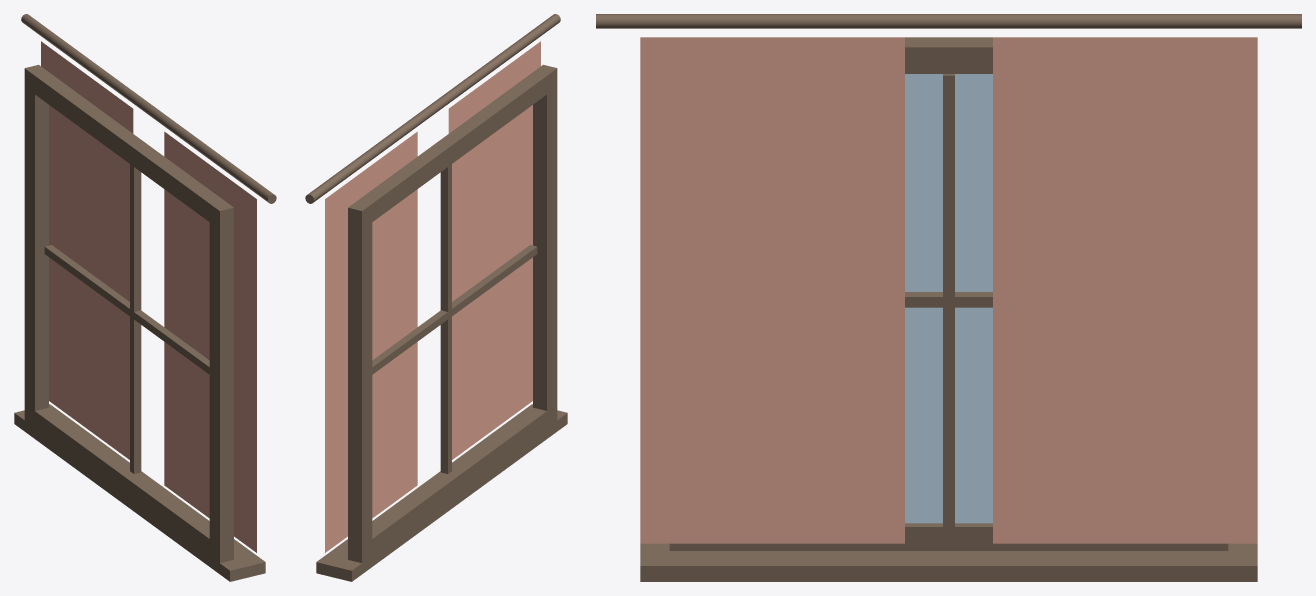
File: window_curtain.glb
The picture shows the model from 3 angles, left to right: view 1: azimuth 30°, elevation 25°; view 2: azimuth 150°, elevation 25°; view 3: azimuth 270°, elevation 25°; orthographic projection. The views are drawn at different scales.
Parts seen in each view (by area): view 1: curtain_a, curtain_b, frame_right, frame_left, frame_top, frame_bottom, sill, muntin_v, curtain_rod, muntin_h; view 2: curtain_b, curtain_a, frame_left, frame_right, frame_top, frame_bottom, sill, muntin_v, curtain_rod, muntin_h; view 3: curtain_a, curtain_b, glass_face, sill, curtain_rod, frame_bottom, muntin_v, frame_top, muntin_h.
Part boxes in pixels (x1,y1,x2,y2): curtain_a: [41, 41, 133, 459]; curtain_b: [164, 131, 256, 552]; frame_right: [209, 222, 233, 546]; frame_left: [24, 87, 48, 410]; frame_top: [24, 64, 233, 229]; frame_bottom: [24, 404, 233, 564]; sill: [14, 404, 265, 581]; muntin_v: [130, 164, 141, 473]; curtain_rod: [21, 14, 276, 203]; muntin_h: [44, 245, 209, 374]; curtain_b: [448, 41, 540, 459]; curtain_a: [325, 131, 417, 552]; frame_left: [348, 222, 372, 546]; frame_right: [533, 87, 557, 410]; frame_top: [348, 64, 557, 229]; frame_bottom: [348, 404, 557, 564]; sill: [316, 404, 567, 581]; muntin_v: [440, 164, 451, 473]; curtain_rod: [305, 14, 560, 203]; muntin_h: [372, 245, 537, 374]; curtain_a: [993, 37, 1257, 543]; curtain_b: [640, 37, 904, 543]; glass_face: [905, 74, 992, 523]; sill: [640, 543, 1257, 581]; curtain_rod: [596, 14, 1301, 28]; frame_bottom: [669, 523, 1228, 550]; muntin_v: [943, 74, 954, 528]; frame_top: [905, 37, 992, 73]; muntin_h: [905, 292, 992, 307].
Size of the model in its own units: 0.2 by 2.1 by 2.4.
